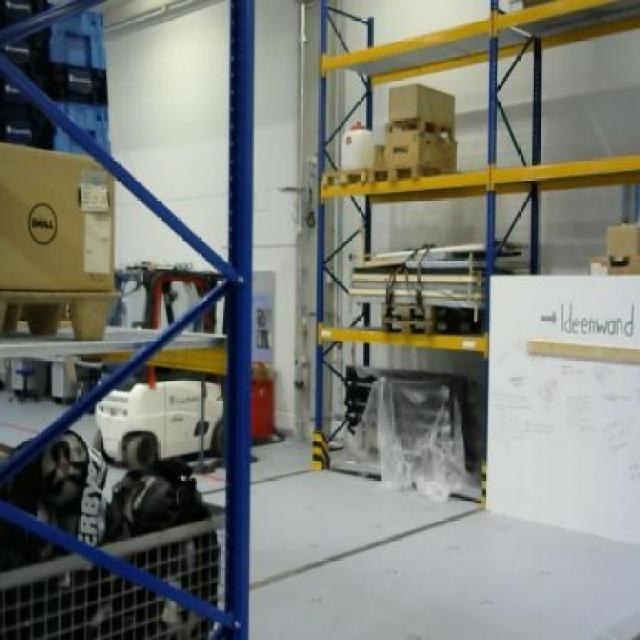box: (0, 142, 114, 290), (387, 84, 456, 132), (383, 130, 459, 172), (606, 222, 640, 258)
